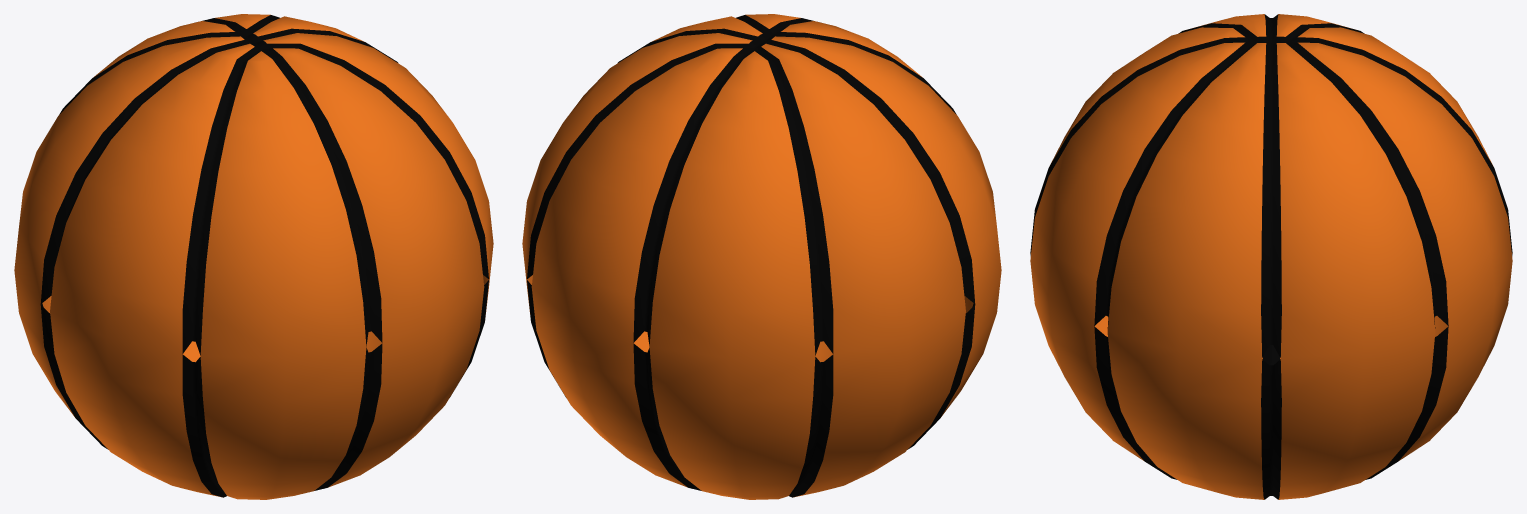
The picture shows the model from 3 angles, left to right: view 1: azimuth 30°, elevation 25°; view 2: azimuth 150°, elevation 25°; view 3: azimuth 270°, elevation 25°; orthographic projection.
Parts seen in each view (by area): view 1: Sphere_0; view 2: Sphere_0; view 3: Sphere_0.
Boxes of the visible parts, x1,y1,x2,y2 form: Sphere_0: (14, 14, 493, 499); Sphere_0: (522, 14, 1001, 499); Sphere_0: (1030, 14, 1512, 499).
Size of the model in its own units: 1.97 by 1.96 by 1.97.
